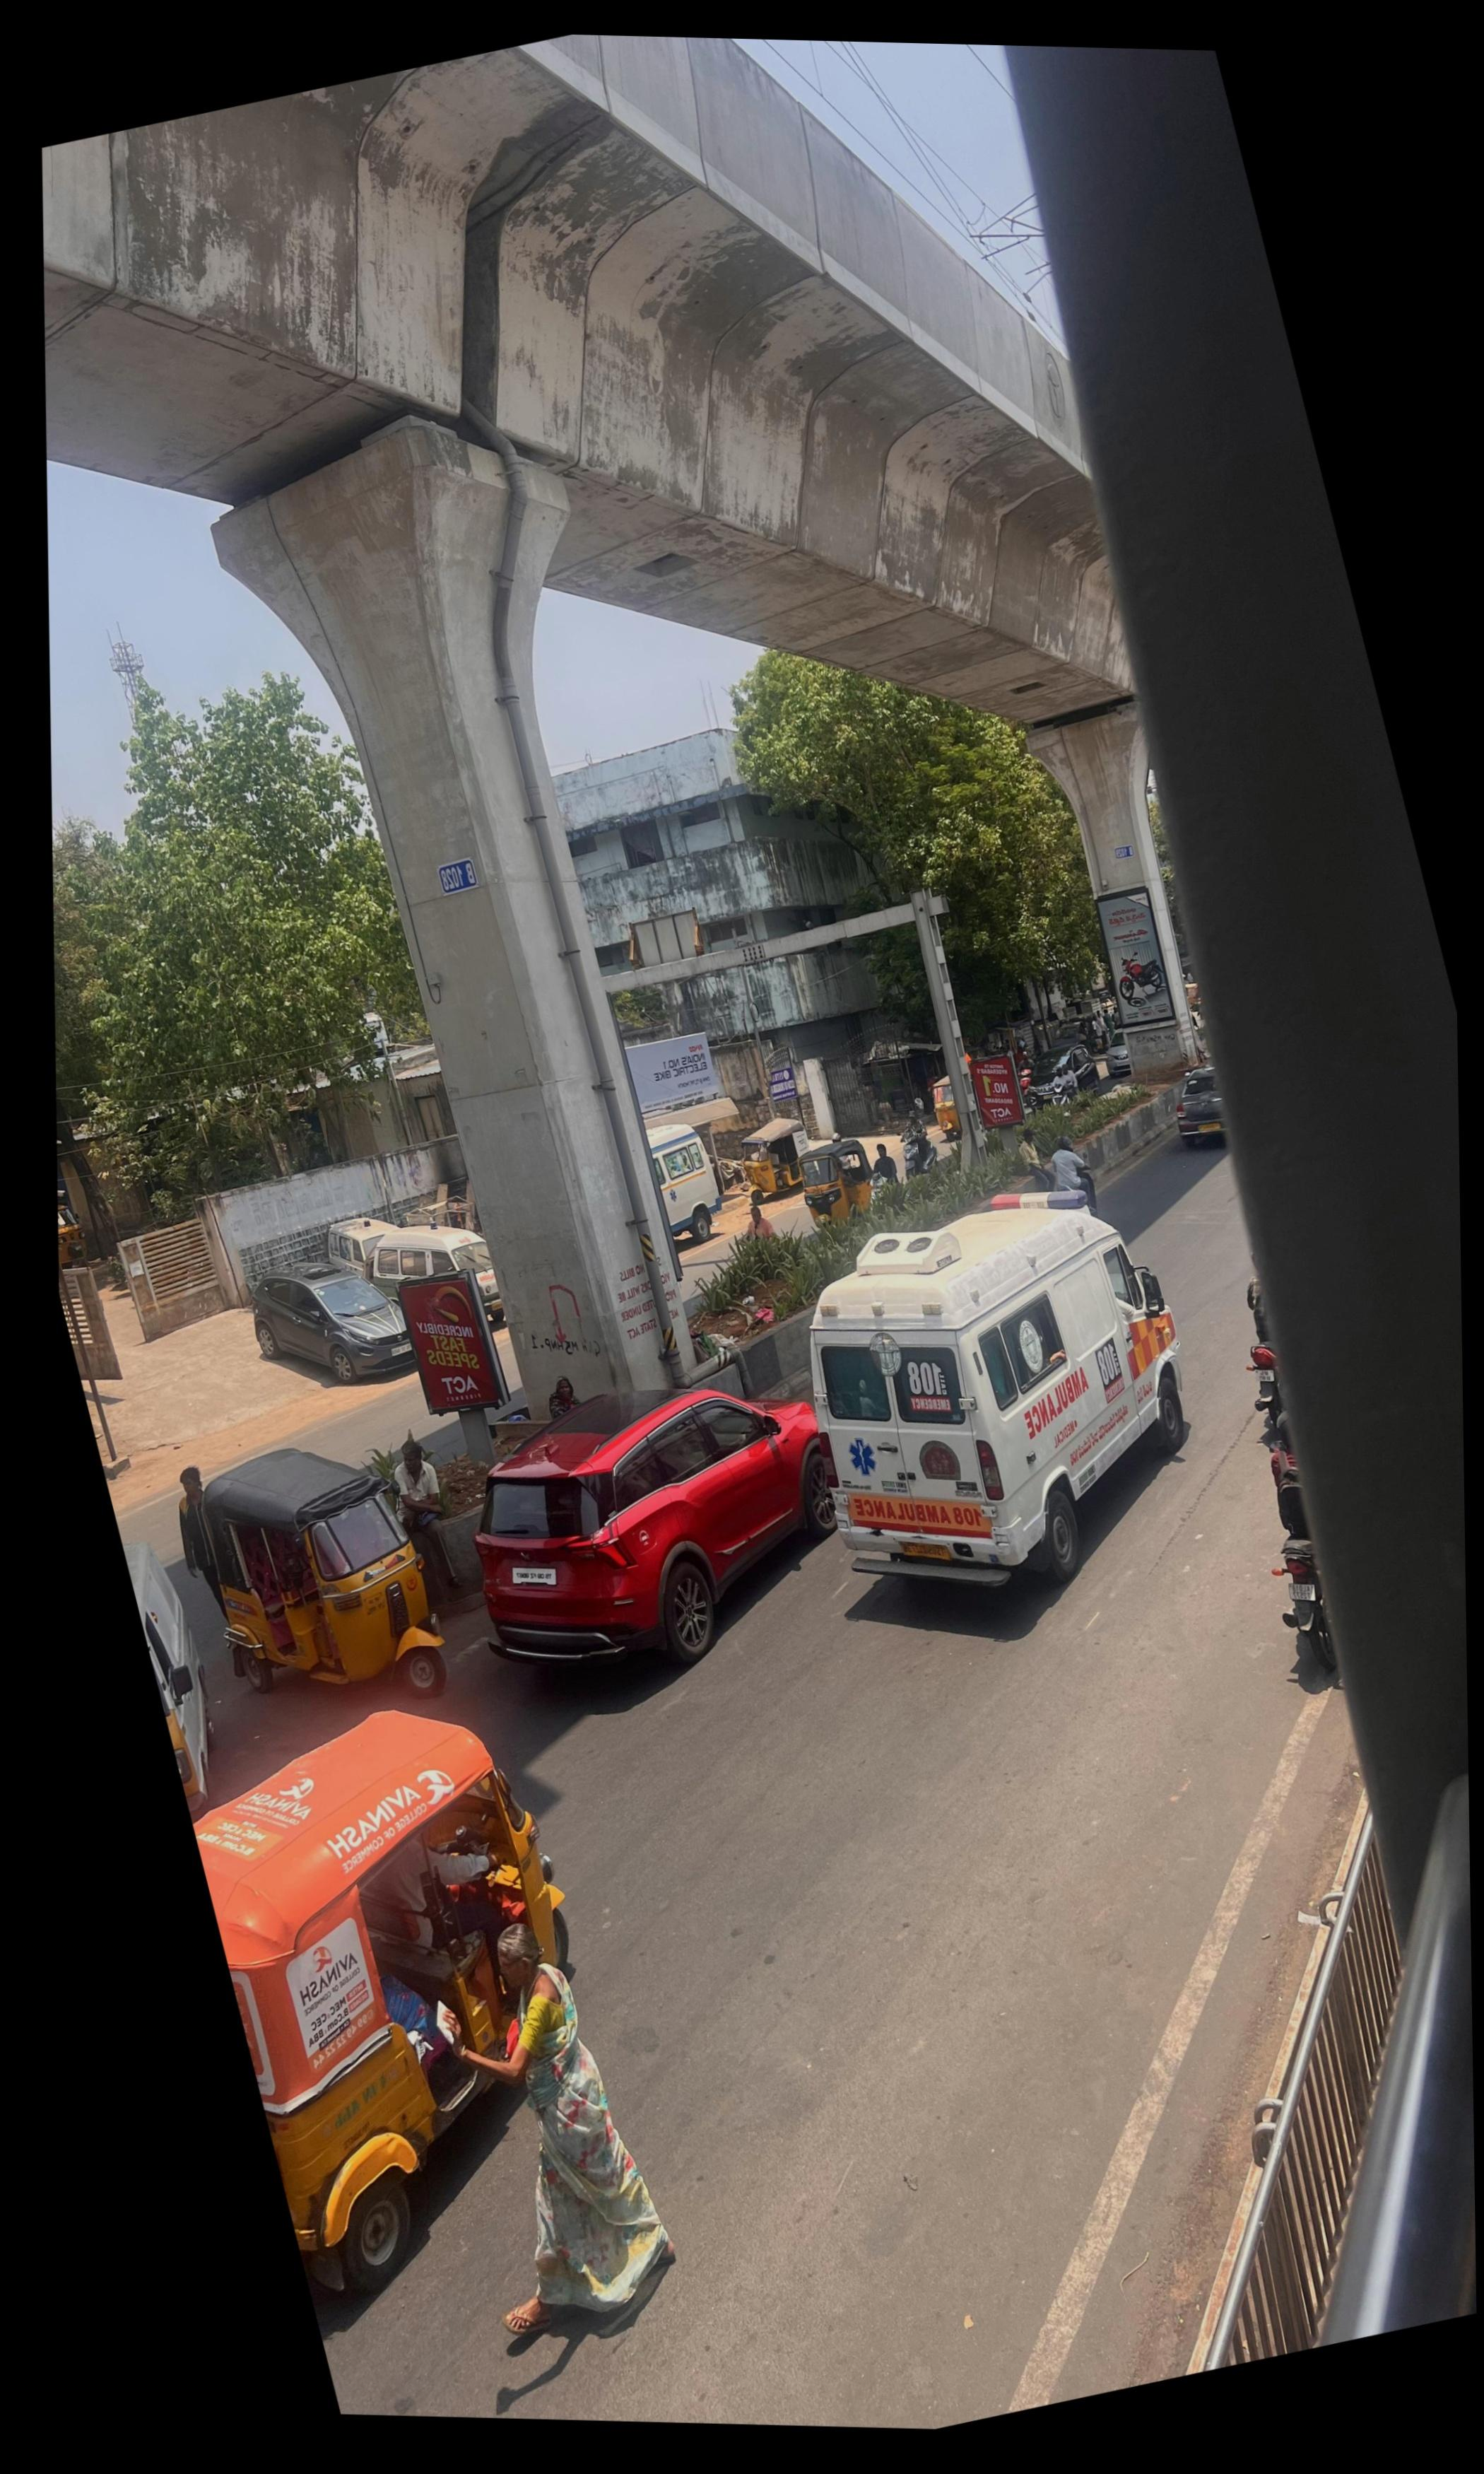ambulance: (809, 1189, 1189, 1573)
